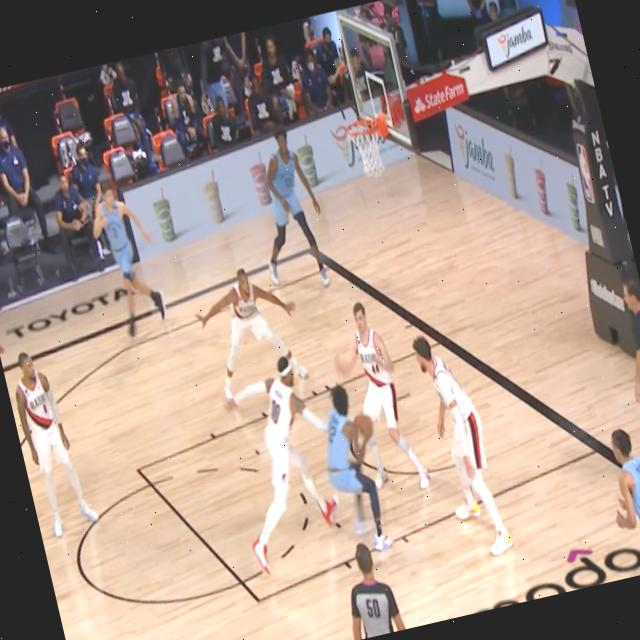no foul: (221, 350, 349, 576), (318, 274, 434, 504), (303, 354, 402, 562)
